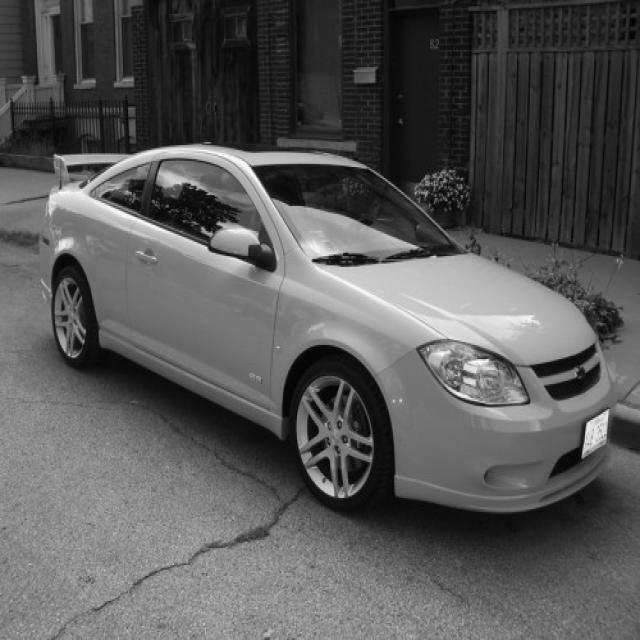Sedan: (36, 144, 618, 516)
